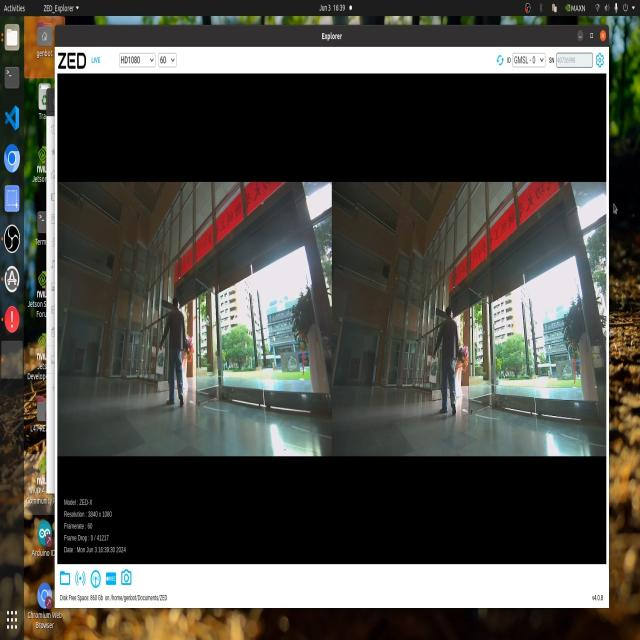green: (156, 345, 166, 370), (431, 355, 438, 383)
